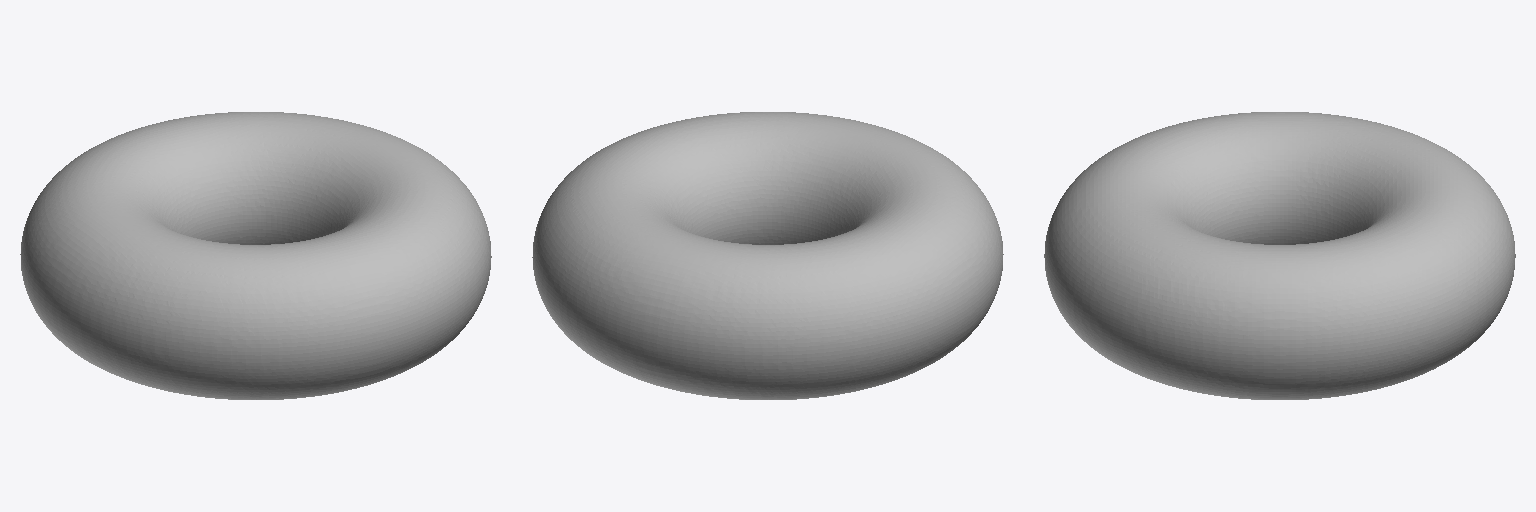
The robot description file, URDF, robot "root":
<robot name="root">
  <link name="link_001">
    <visual>
      <origin xyz="0 0 0" rpy="0 0 0"/>
      <geometry>
        <mesh filename="toruslarge.obj" scale="1.2500E+00 1.2500E+00 1.2500E+00"/>
      </geometry>
      <material name="">
        <color rgba="7.50E-01 7.50E-01 7.50E-01 1"/>
      </material>
    </visual>
    <collision>
      <origin xyz="0 0 0" rpy="0 0 0"/>
      <geometry>
        <mesh filename="toruslarge.obj" scale="1.2500E+00 1.2500E+00 1.2500E+00"/>
      </geometry>
    </collision>
    <inertial>
      <mass value="0.16"/> <!-- 质量：0.1kg -->
    </inertial>
  </link>
</robot>

--- Render facts (derived) ---
3 views of the same robot in one strip: view 1: azimuth 30°, elevation 25°; view 2: azimuth 150°, elevation 25°; view 3: azimuth 270°, elevation 25° (orthographic).
Model root with 1 links and 0 joints (none), rooted at link_001, posed all joints at 0.
Links seen in each view (by area): view 1: link_001; view 2: link_001; view 3: link_001.
Boxes of the visible links, x1,y1,x2,y2 form: link_001: (20, 112, 491, 399); link_001: (532, 112, 1003, 399); link_001: (1044, 112, 1515, 399).
Size in the robot's own frame: 0.1512 by 0.1512 by 0.0499 metres.
Meshes: 1 distinct files referenced, 1 mesh visuals loaded (1 OBJ).
